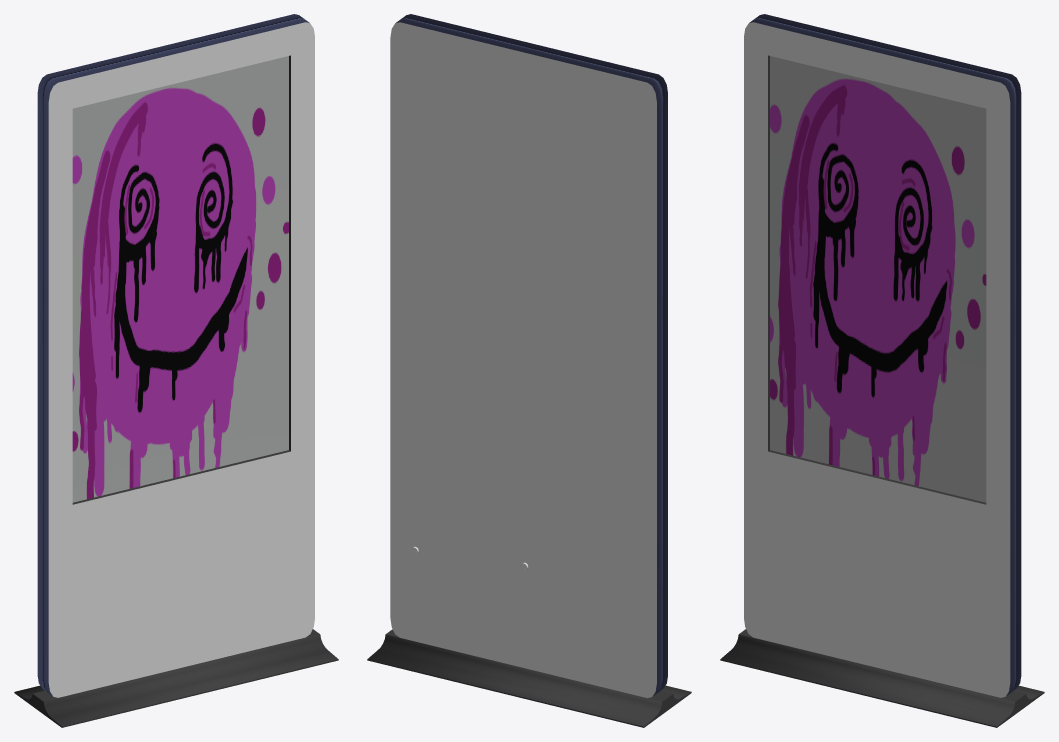
The model's file is Kiosk_smiley.fbx.
3 views of the same model, side by side, from view 1: azimuth 30°, elevation 25°; view 2: azimuth 150°, elevation 25°; view 3: azimuth 330°, elevation 25° (orthographic).
Visible parts, largest first — view 1: Cube.000, Fläche, Cube.001; view 2: Cube.000, Cube.001; view 3: Cube.000, Fläche, Cube.001.
Part boxes in pixels (x1,y1,x2,y2): Cube.000: [37, 14, 314, 697]; Fläche: [72, 56, 288, 502]; Cube.001: [14, 629, 338, 727]; Cube.000: [390, 14, 667, 697]; Cube.001: [367, 629, 691, 727]; Cube.000: [744, 14, 1021, 697]; Fläche: [770, 56, 986, 502]; Cube.001: [720, 629, 1044, 727].
Bounding box in the file's own units: 28.96 × 62.86 × 8.64.
